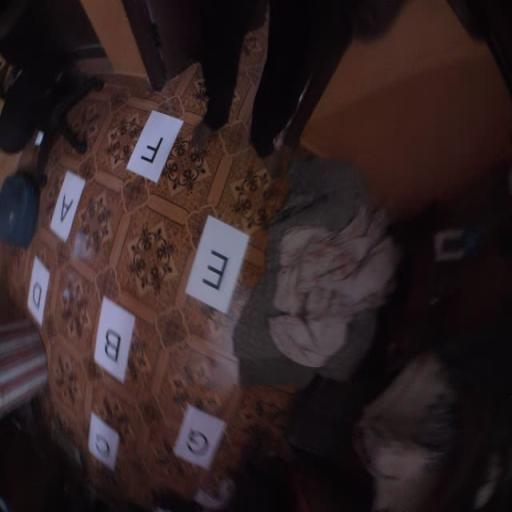A: (50, 169, 86, 243)
B: (94, 294, 136, 383)
C: (88, 410, 120, 472)
D: (26, 255, 50, 326)
E: (184, 214, 250, 315)
F: (126, 110, 184, 183)
G: (173, 404, 226, 470)
